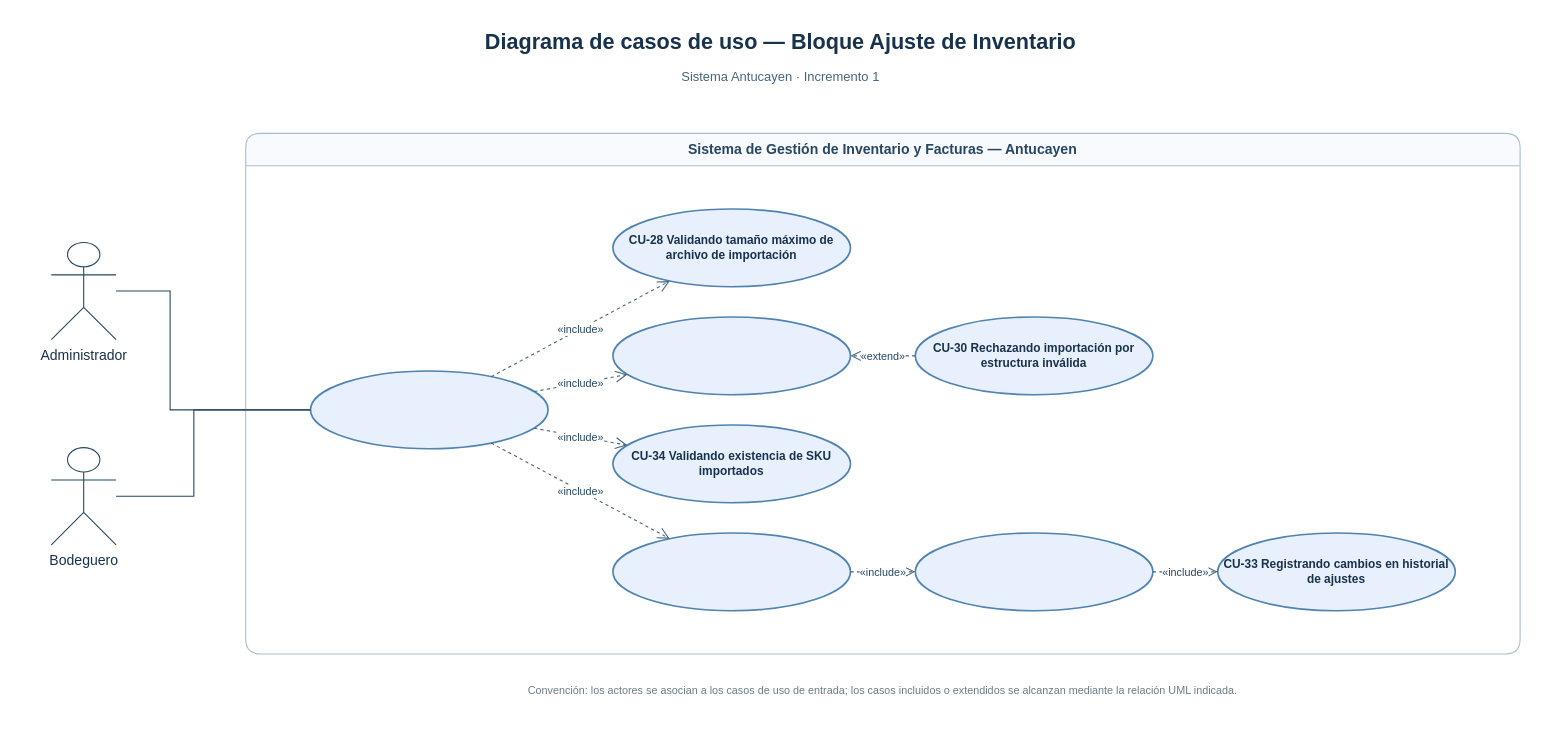
The diagram is 1560 pixels wide and 730 high, and some of its shapes have lost their labels. Each missing label, with the box of its shape:
CU-27 Importando archivo Excel de ajuste de inventario: (309, 370, 548, 449)
CU-29 Validando columnas requeridas en importación: (612, 316, 851, 395)
CU-31 Previsualizando ajuste de inventario: (612, 532, 851, 611)
CU-32 Confirmando y aplicando ajuste de stock: (914, 532, 1153, 611)
